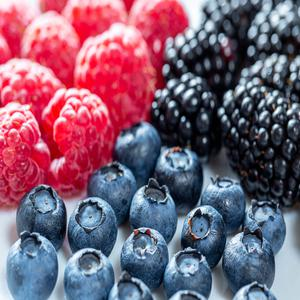raspb: (1, 1, 111, 162)
